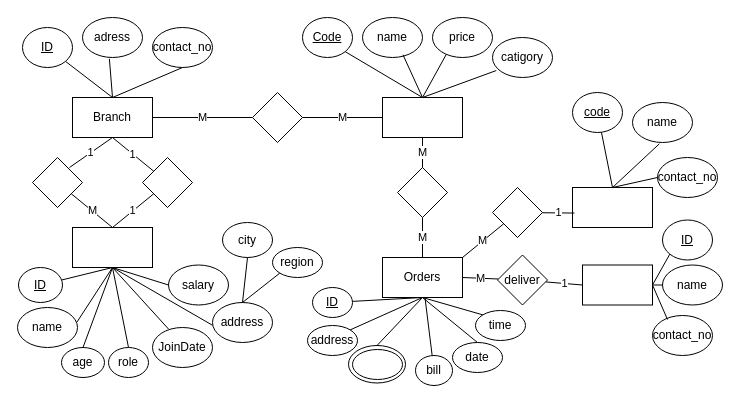
This 740x403 diagram has some shape labels left out. The shapes that lost their labels are listed below. From the top down, each one's centre as x and y in pixels, then its label:
(277,117): provide
(422,117): Menu_Items
(57,182): work
(167,182): manage
(422,192): has
(517,212): make
(612,207): Customer
(112,247): Staff
(617,284): delivery
(377,364): Items
